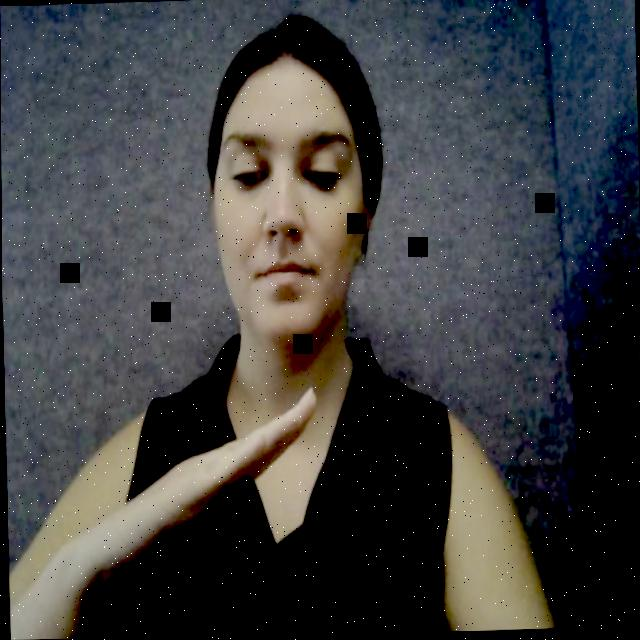Paper: (132, 383, 337, 552)
